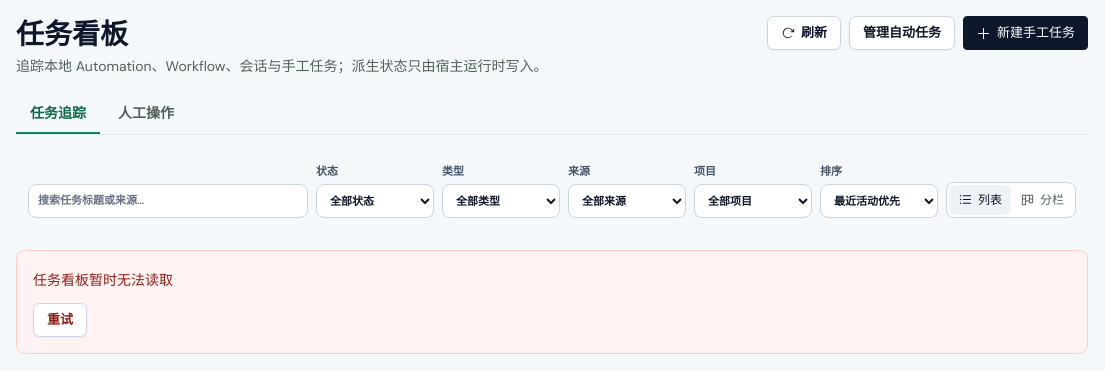
Test: BoardView › 网络中断时本地化错误并可重试恢复任务列表
Click the button "重试": coordinates (60, 320) [33,302,87,336]
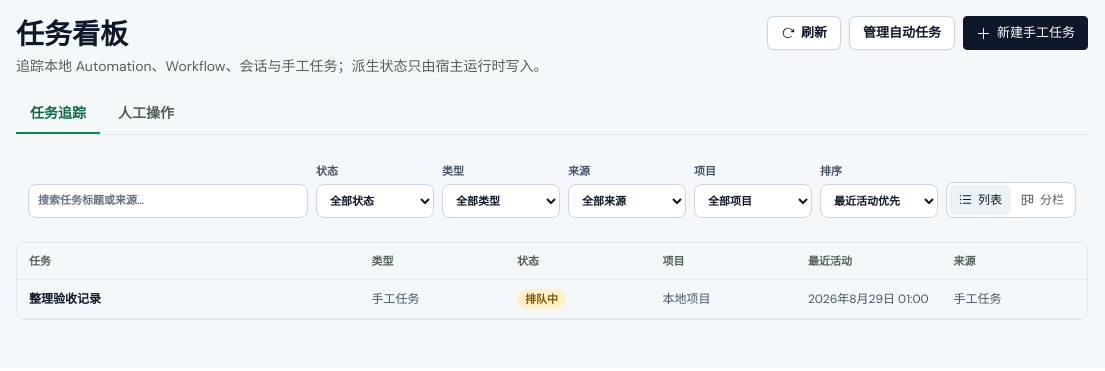
Check: the button "整理验收记录" is shown, box [29,290,101,308]
